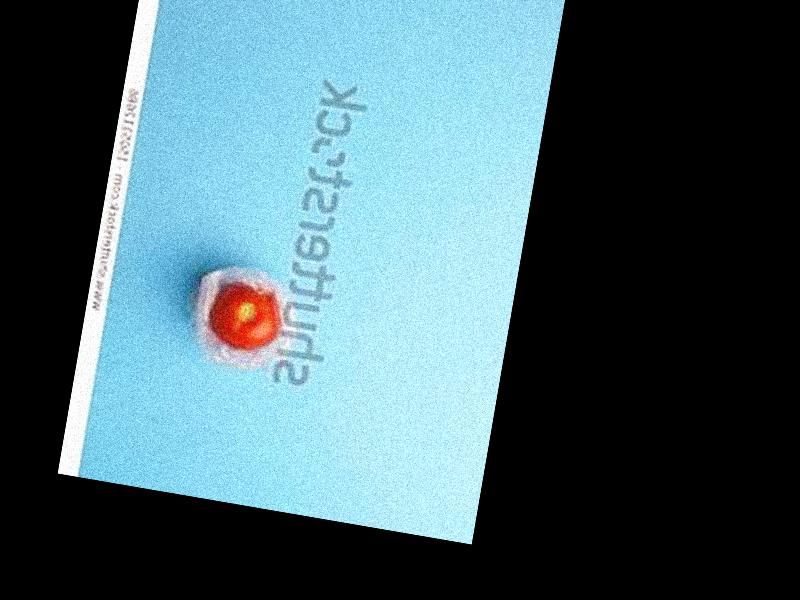Tomato: (206, 277, 286, 353)
